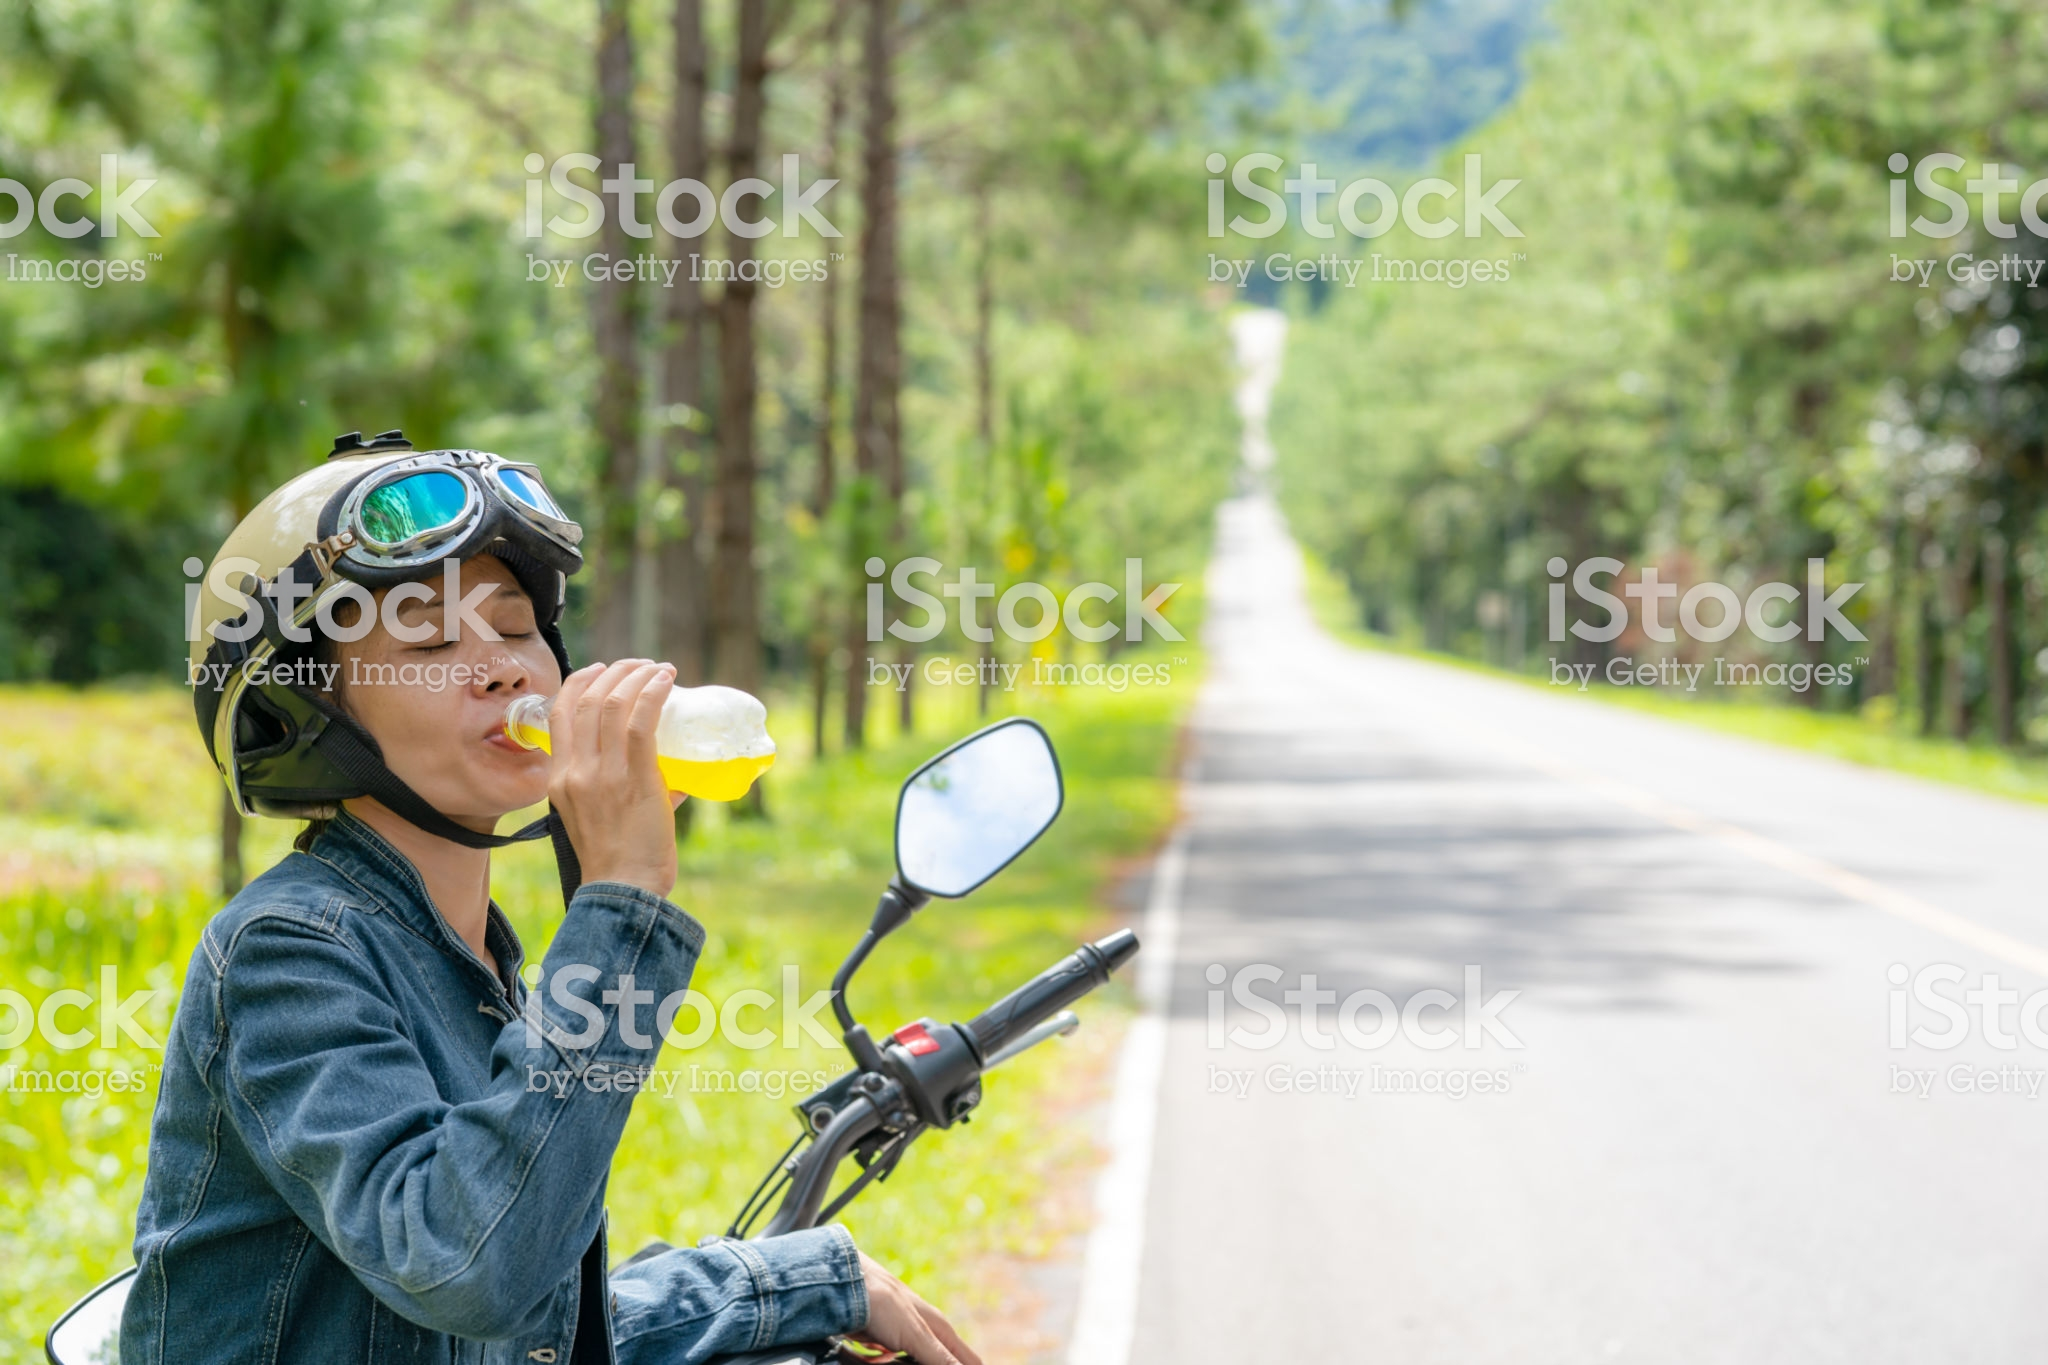helmet: (163, 446, 588, 689)
